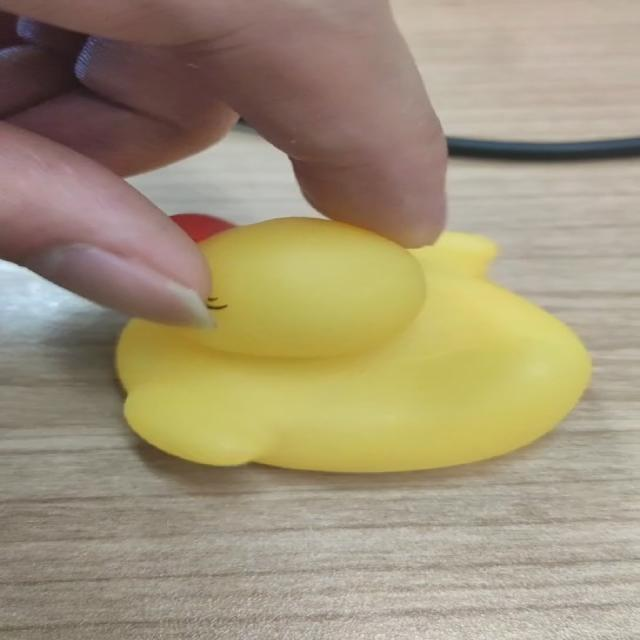rubber-duck: (116, 217, 589, 470)
